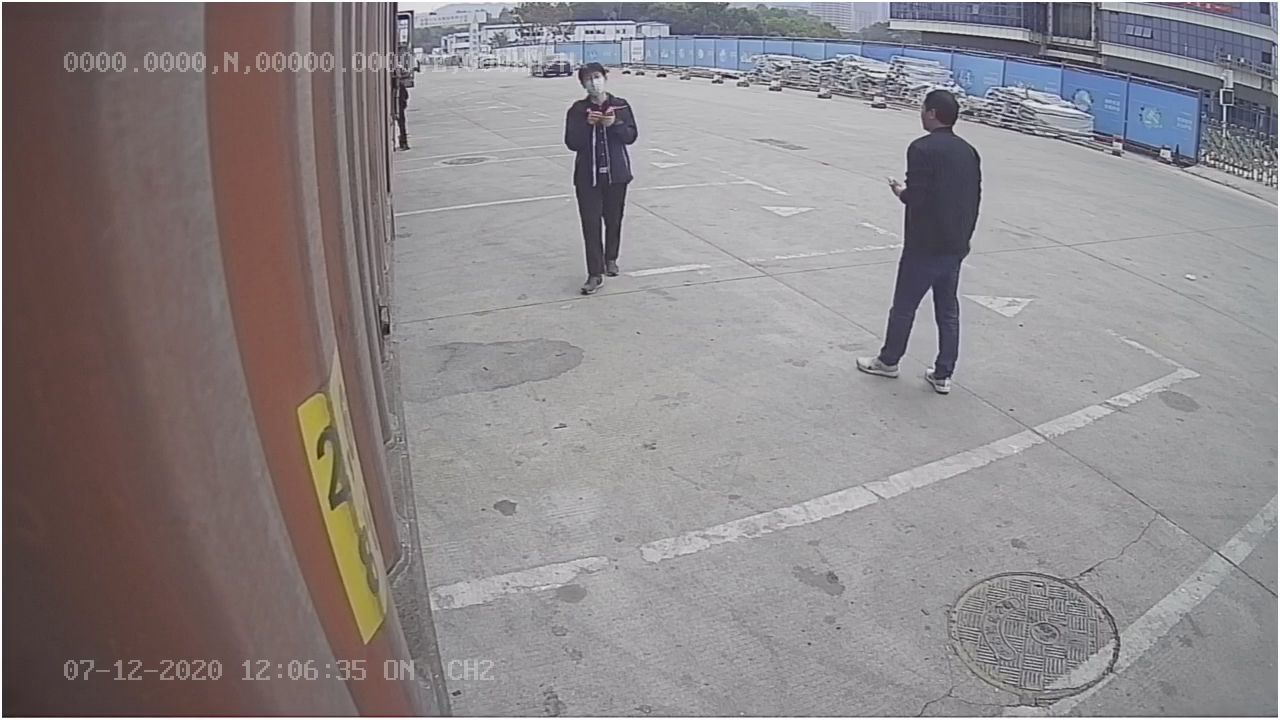person: (854, 85, 986, 395), (559, 60, 637, 294)
